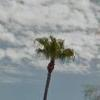Palm tree: (30, 28, 70, 100)
